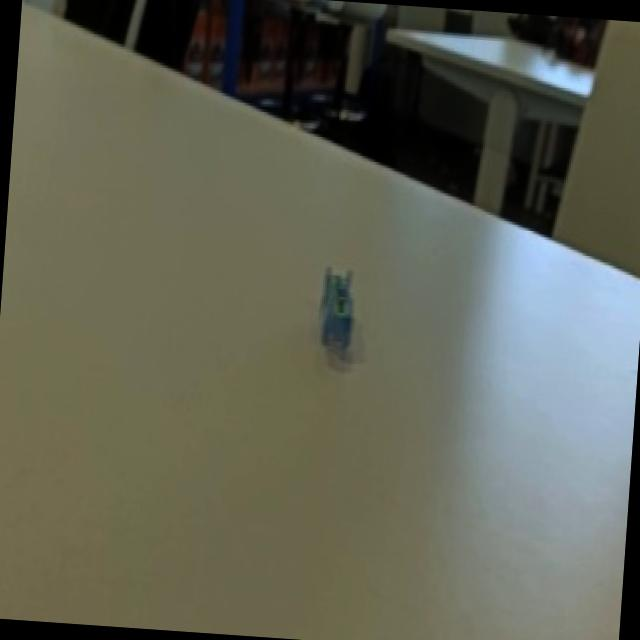3_NanoBug_Celeste: (286, 236, 388, 397)
